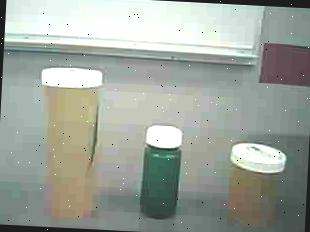Bottle A: (30, 61, 120, 227)
Bottle B: (221, 137, 291, 232)
Bottle C: (134, 119, 199, 231)
